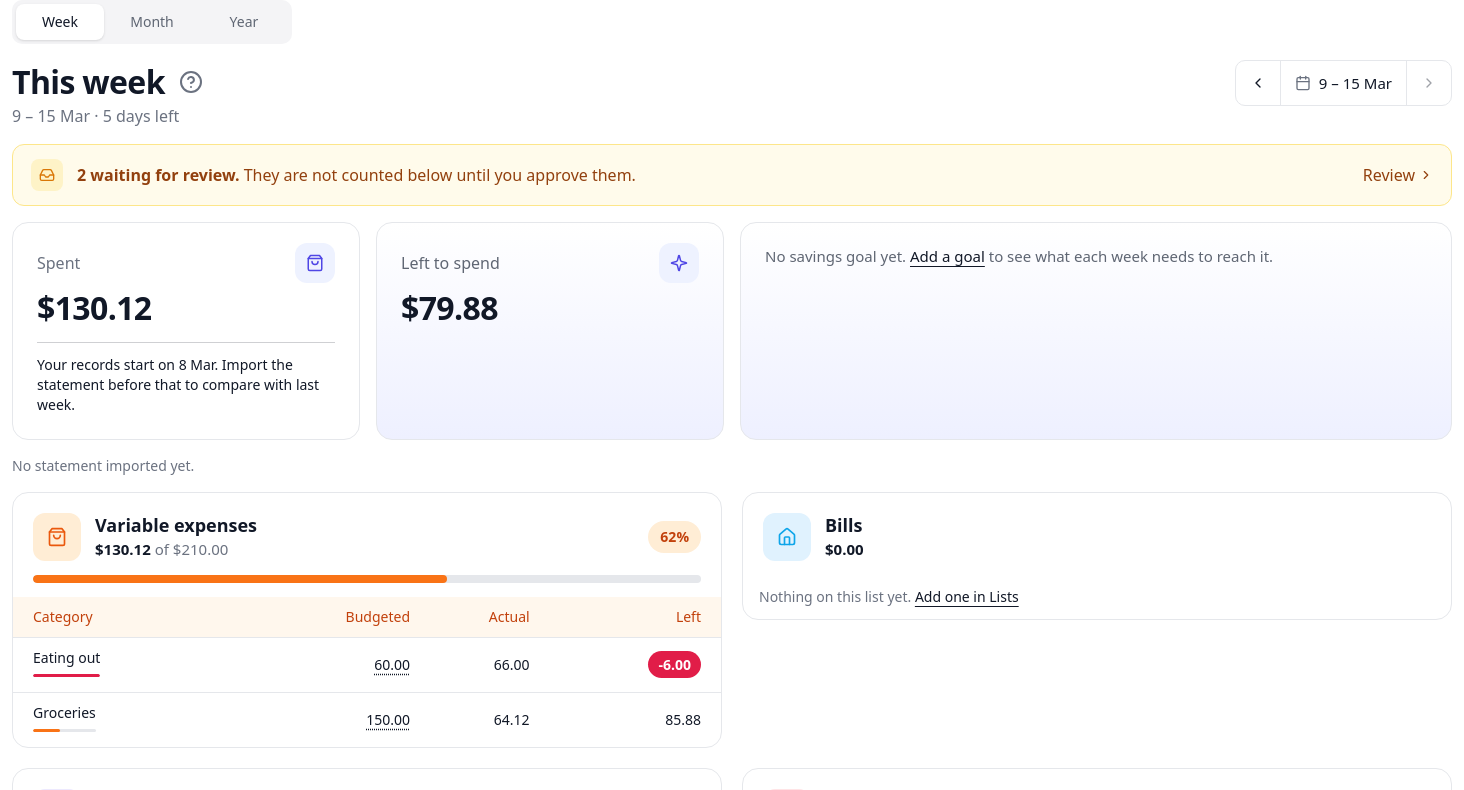
Test: WeekScreen › steps back a week and counts only that week
Click the button named "Previous week": click(1258, 83) x1=1236 y1=61 x2=1280 y2=105
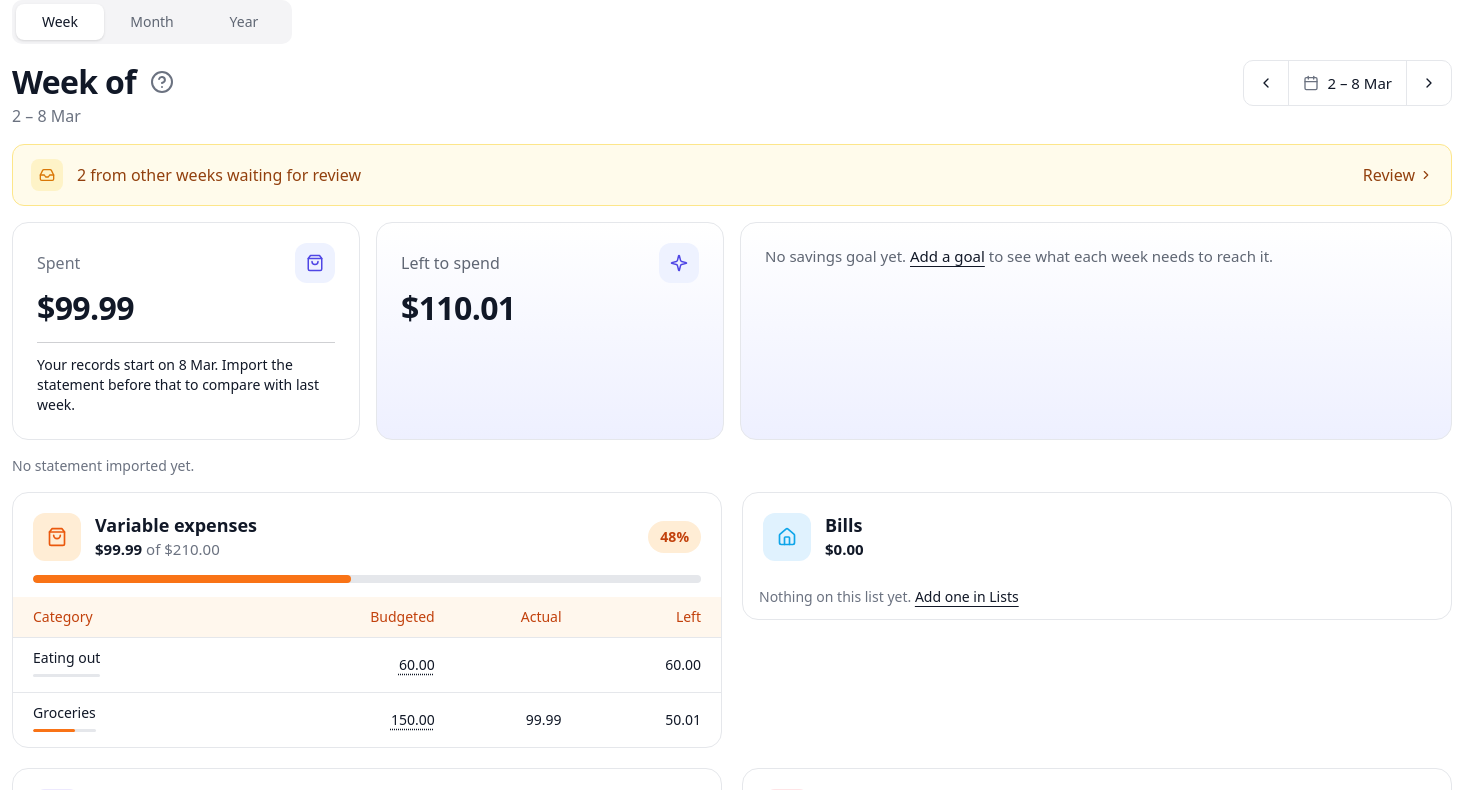
Now the heading "Week of" is shown, box x1=12 y1=62 x2=136 y2=102
Now the text "days left" is gone
